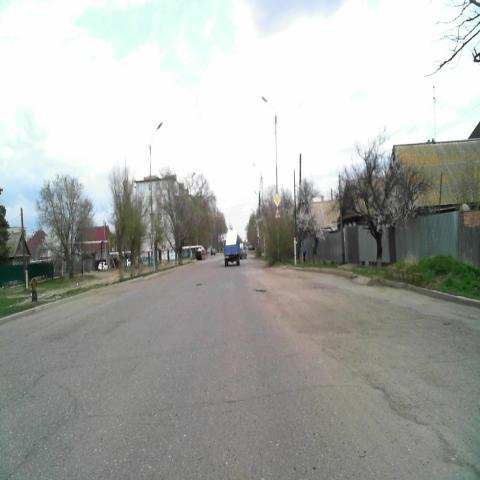1_23: (275, 207, 281, 218)
2_1: (273, 193, 281, 207)
